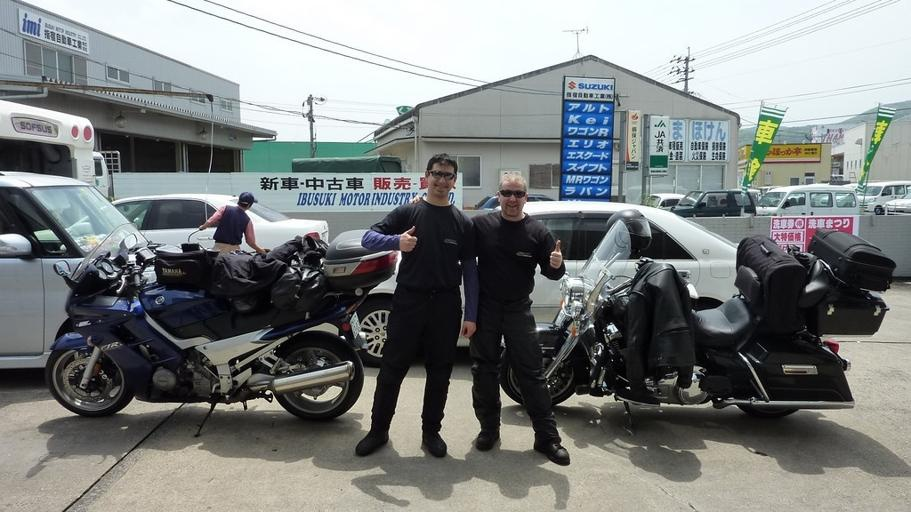non-vehicle: (493, 218, 895, 439), (43, 220, 396, 438)
